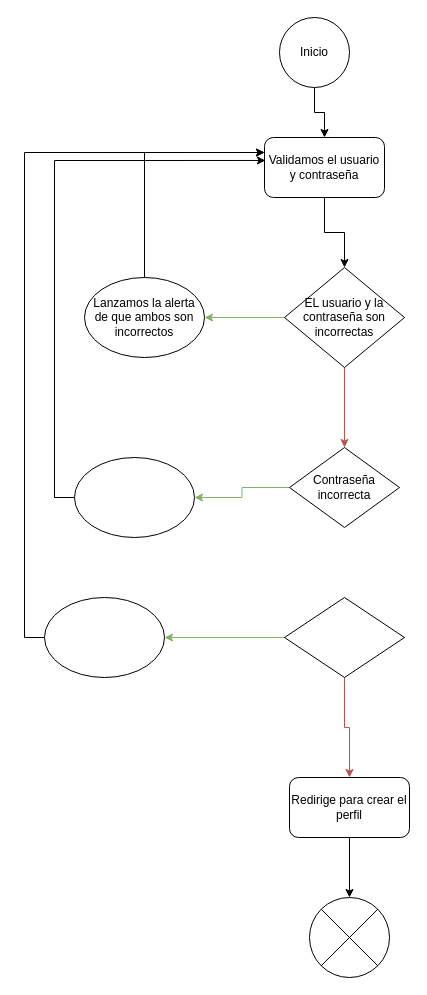
Some shapes in this 427 by 995 pixel diagram are drawn without their labels. The box of each missing label's shape, as (x1, y1, x2, y2) in pixels:
Lanzamos la alerta de que el usuario es incorrecto: (44, 596, 164, 678)
Lanzamos la alerta de que la contraseña es incorrecta: (74, 456, 194, 538)
Usuario incorrecto: (284, 596, 404, 678)
